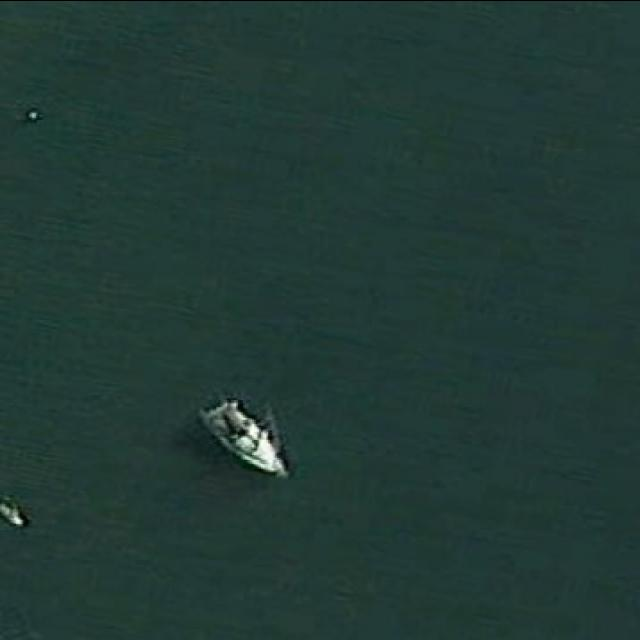ship: (188, 398, 290, 478)
